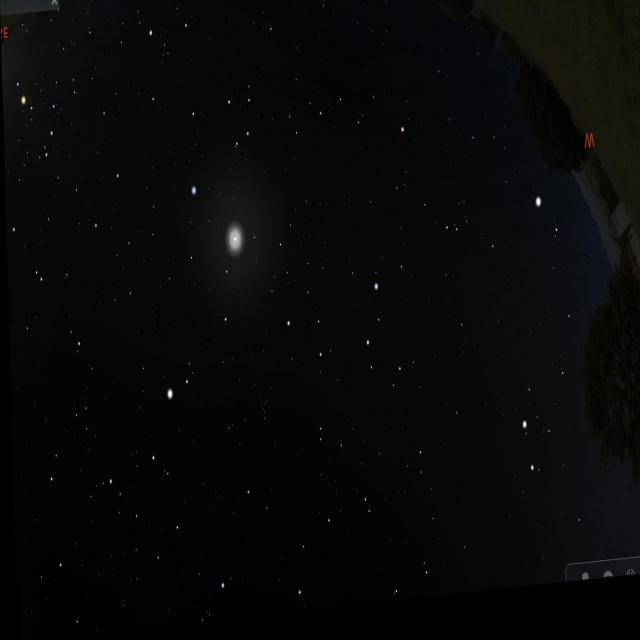bootes: (120, 356, 194, 576)
canis_minor: (526, 185, 568, 262)
gemini: (516, 396, 596, 496)
leo: (269, 263, 405, 417)
moon: (218, 214, 255, 274)
scorpius: (9, 78, 63, 172)
